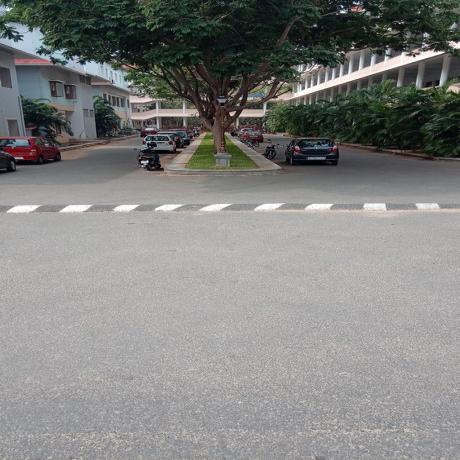Speed Bump: (1, 202, 459, 214)
